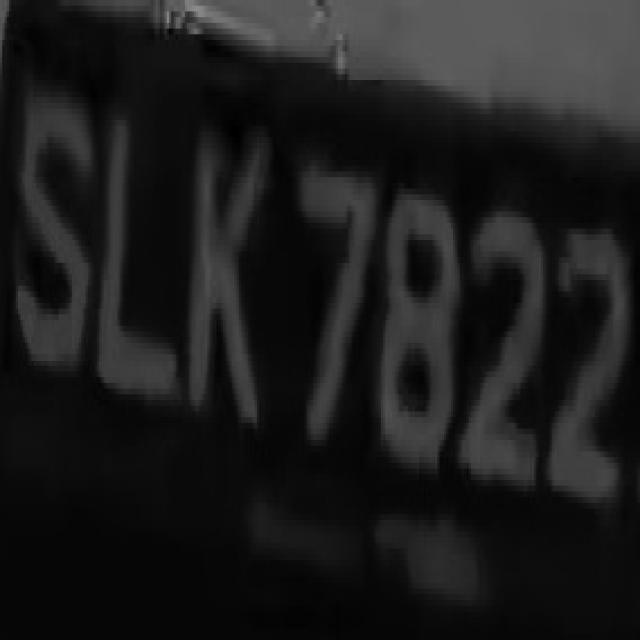2: (462, 177, 548, 509), (546, 206, 634, 514)
7: (293, 126, 381, 463)
8: (370, 177, 462, 492)
K: (185, 97, 272, 440)
L: (99, 86, 178, 423)
S: (14, 57, 90, 406)
